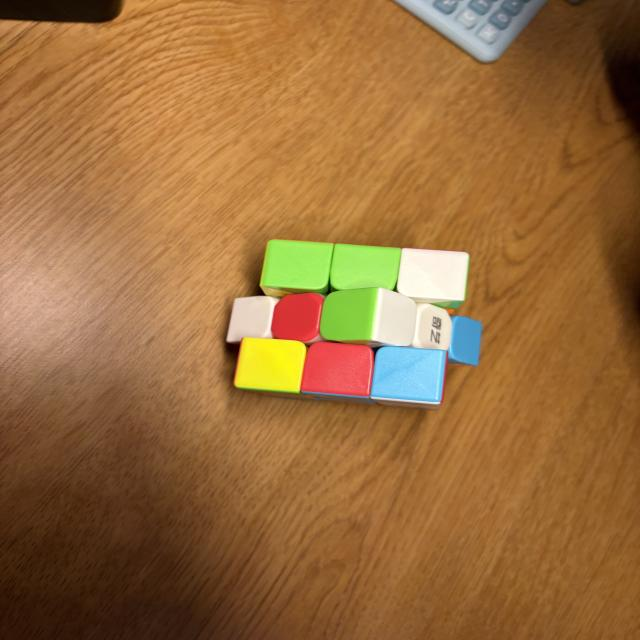Rubiks Cube: (227, 239, 481, 410)
